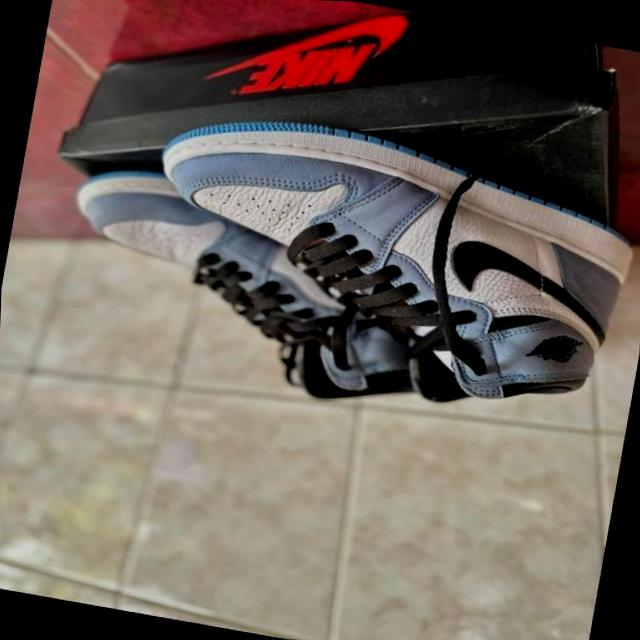nike_fake_jordan: (123, 92, 640, 435)
